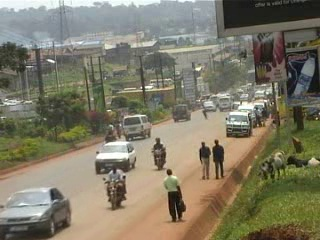Car: (0, 185, 76, 239), (94, 138, 137, 177), (200, 98, 216, 113)
Motorcycle: (100, 164, 128, 211), (149, 134, 168, 172), (103, 125, 119, 144)
